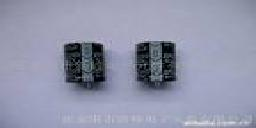Electrolytic-Capacitor: (59, 40, 111, 91), (132, 38, 179, 90)
